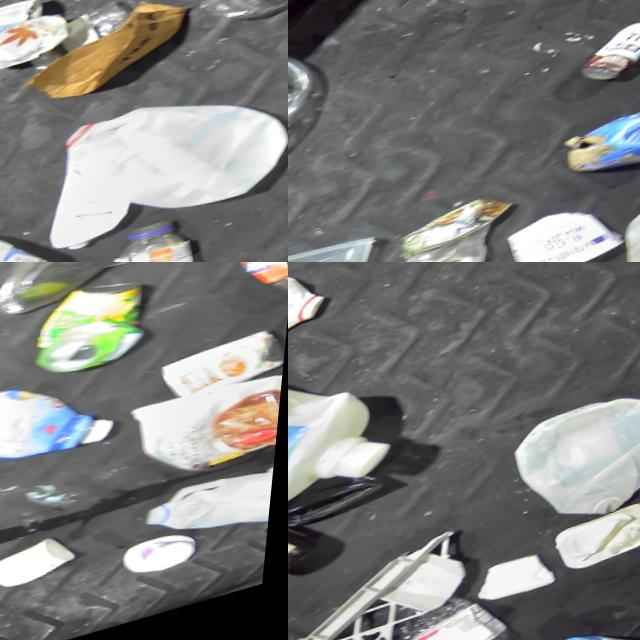can: (24, 274, 174, 390), (151, 334, 288, 419), (396, 194, 513, 262)
milk_jug: (54, 63, 288, 248), (288, 335, 402, 549), (504, 387, 640, 542), (142, 461, 284, 572), (0, 192, 85, 262), (288, 262, 336, 370)
plastic_bottle: (214, 262, 288, 319), (379, 235, 511, 262)
